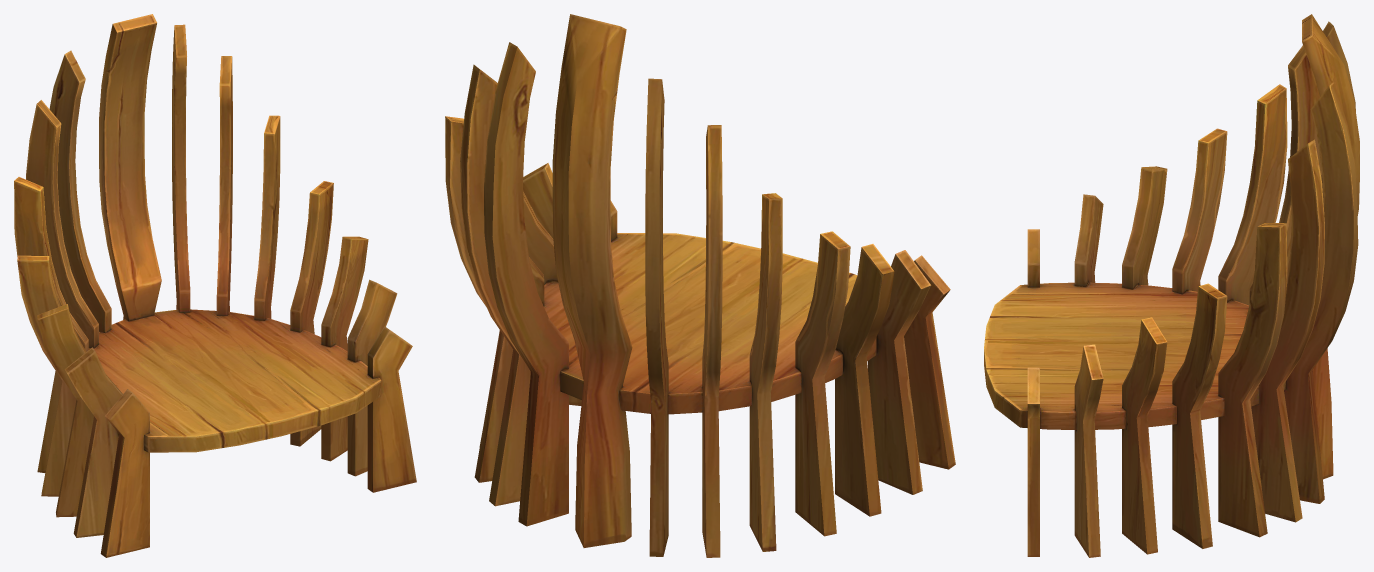
Rendered from Chair_paint.obj.
The picture shows the model from 3 angles, left to right: view 1: azimuth 30°, elevation 25°; view 2: azimuth 150°, elevation 25°; view 3: azimuth 270°, elevation 25°; orthographic projection. The views are drawn at different scales.
Parts seen in each view (by area): view 1: Low:chair_Low4; view 2: Low:chair_Low4; view 3: Low:chair_Low4.
Boxes of the visible parts, x1,y1,x2,y2 form: Low:chair_Low4: [14, 14, 416, 557]; Low:chair_Low4: [445, 14, 955, 557]; Low:chair_Low4: [984, 14, 1359, 557].
Bounding box in the file's own units: 1.19 × 1.41 × 1.07.
1 material, 1 textured.
